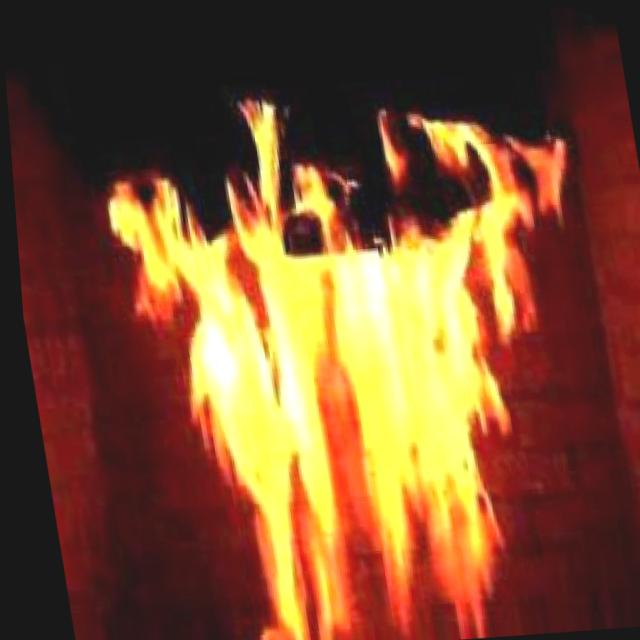helmet: (69, 56, 640, 640)
